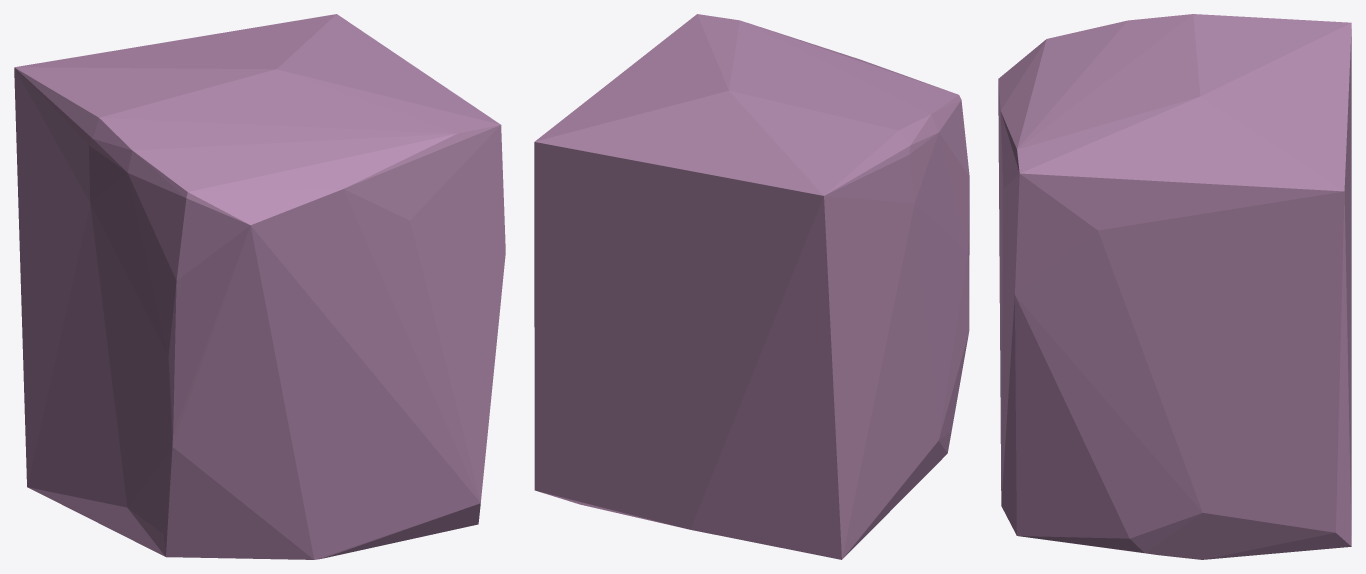
File: pallet_assembly_mixed_e05.glb
3 renders of one model, left to right at view 1: azimuth 30°, elevation 25°; view 2: azimuth 150°, elevation 25°; view 3: azimuth 270°, elevation 25°, orthographic. The views are drawn at different scales.
Visible parts, largest first — view 1: geometry_0; view 2: geometry_0; view 3: geometry_0.
Boxes of the visible parts, bbox=[...] form: geometry_0: bbox=[14, 14, 505, 559]; geometry_0: bbox=[534, 14, 969, 559]; geometry_0: bbox=[998, 14, 1351, 559].
Size of the model in its own units: 0.4054 by 0.4777 by 0.379.
